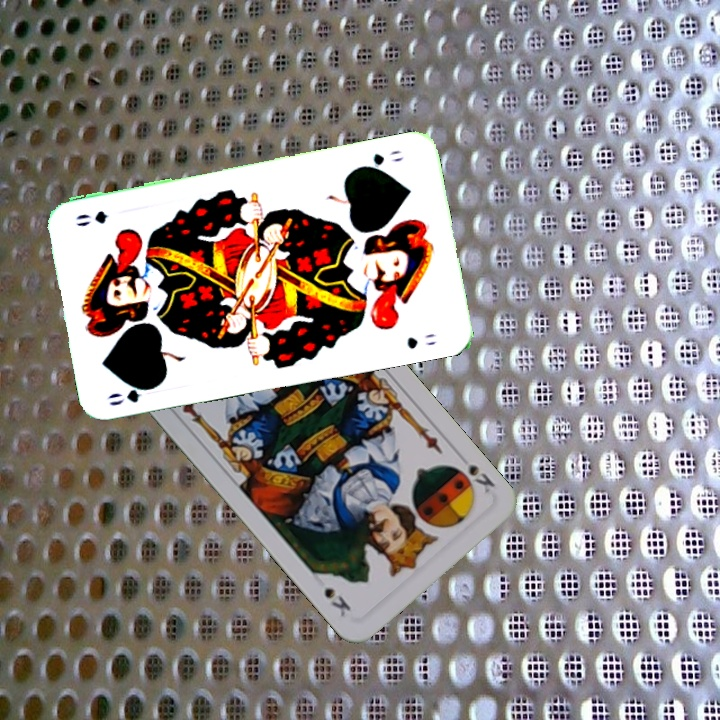GO: (103, 380, 161, 409), (355, 146, 406, 173)
SK: (446, 459, 498, 498)
